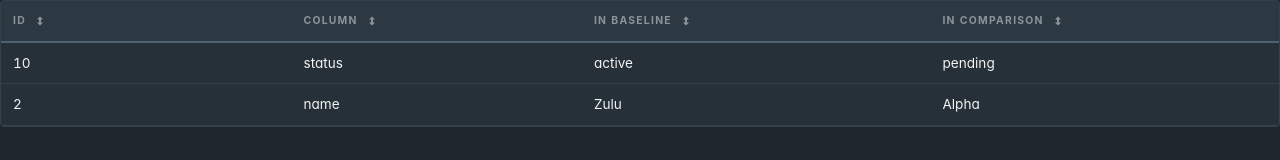
Test: result components › sorts detail rows by any column and toggles direction
The image size is (1280, 160).
Click the button named "Sort id ascending" at (40, 21), box [30,13,50,29]
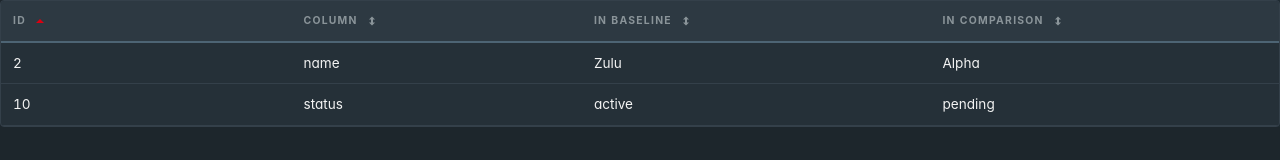
Expected: the cell "2" is shown, [1,43,292,84]
Click the button named "Sort id descending" at (40, 21), box [30,13,50,29]
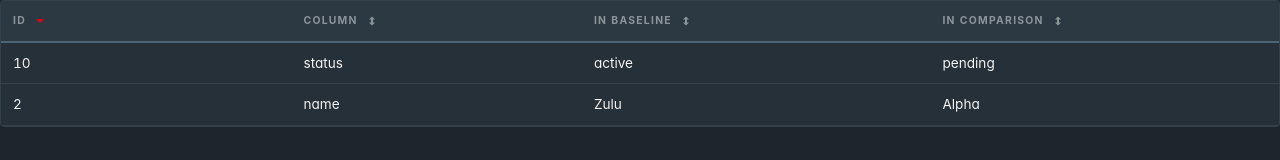
Expected: the cell "10" is shown, [1,43,292,84]
